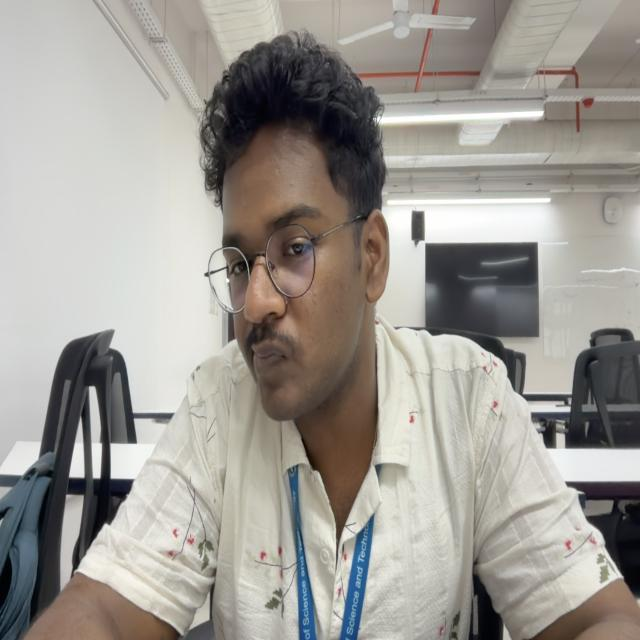sai: (198, 39, 390, 424)
